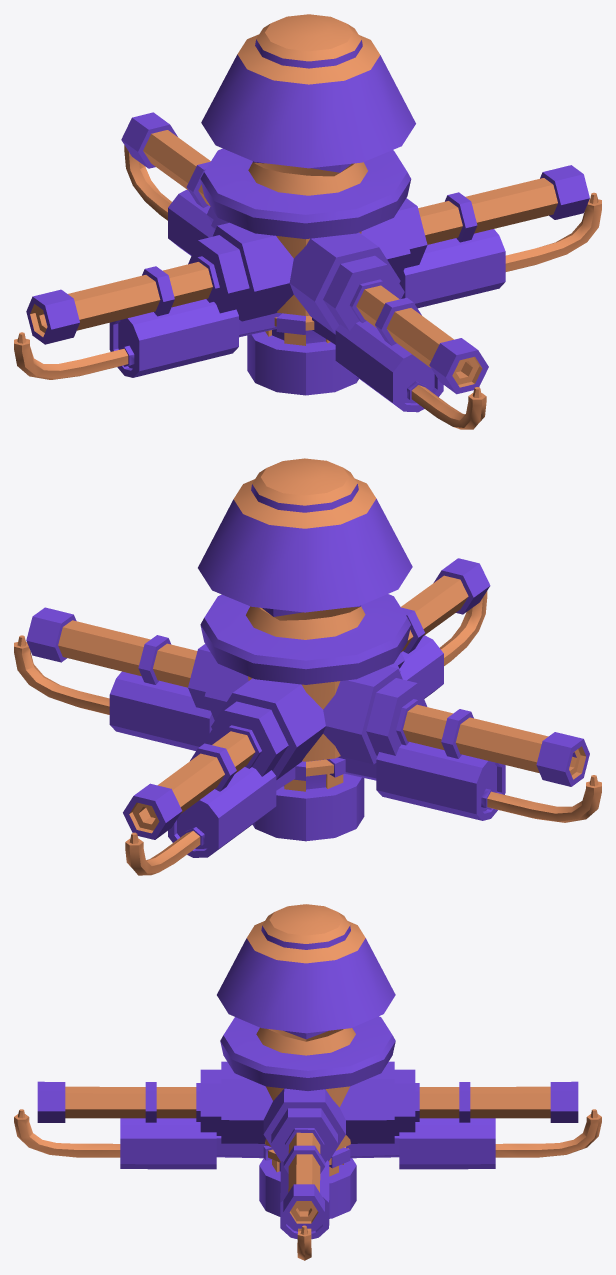
Rendered from Flamethrower.fbx.
3 renders of one model, top to bottom at view 1: azimuth 30°, elevation 25°; view 2: azimuth 150°, elevation 25°; view 3: azimuth 270°, elevation 25°, orthographic. The views are drawn at different scales.
Parts seen in each view (by area): view 1: Fully_Upgraded_Turret_Base.002; view 2: Fully_Upgraded_Turret_Base.002; view 3: Fully_Upgraded_Turret_Base.002.
Part boxes in pixels (box(x1,y1,x2,y2)): Fully_Upgraded_Turret_Base.002: box(14, 14, 601, 429); Fully_Upgraded_Turret_Base.002: box(14, 458, 601, 875); Fully_Upgraded_Turret_Base.002: box(14, 904, 601, 1260).
Size of the model in its own units: 259 by 145 by 270.
